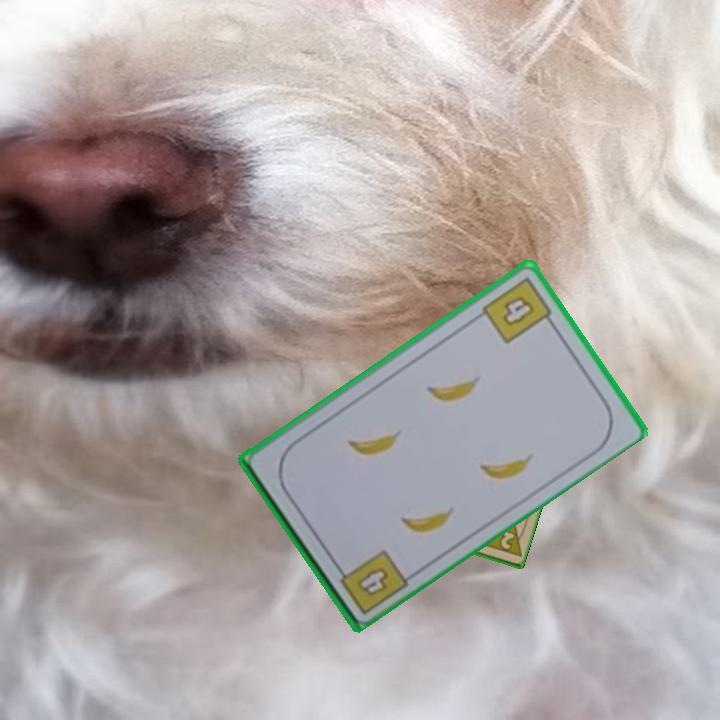2p: (497, 527, 517, 552)
4b: (478, 273, 558, 347), (331, 546, 411, 617)
